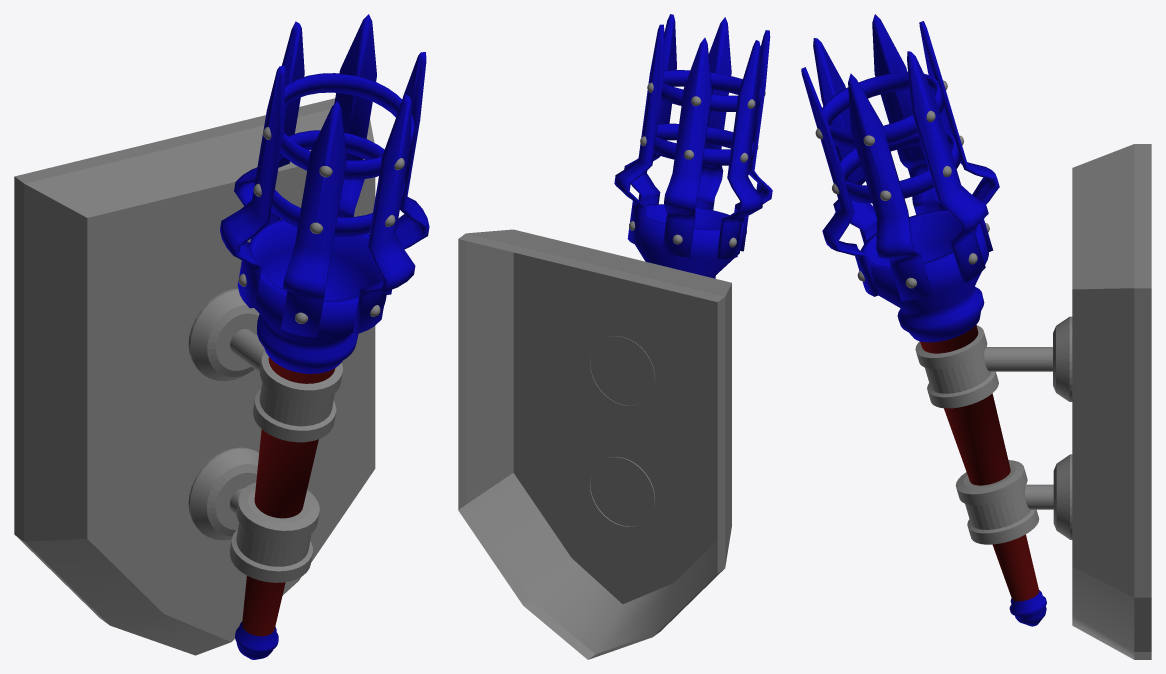
The model's file is torch.fbx.
The picture shows the model from 3 angles, left to right: view 1: azimuth 30°, elevation 25°; view 2: azimuth 150°, elevation 25°; view 3: azimuth 270°, elevation 25°; orthographic projection. The views are drawn at different scales.
Parts seen in each view (by area): view 1: Wall_Mount, torch_handle_instant, Torch_holder001, Torch_holder, Mount_base, Mount_base001, Object; view 2: Wall_Mount, torch_handle_instant; view 3: torch_handle_instant, Wall_Mount, Torch_holder001, Torch_holder, Object, Mount_base, Mount_base001, Object001.
Boxes of the visible parts, bbox=[...] form: Wall_Mount: bbox=[14, 98, 375, 655]; torch_handle_instant: bbox=[220, 14, 429, 659]; Torch_holder001: bbox=[229, 482, 319, 582]; Torch_holder: bbox=[253, 351, 342, 442]; Mount_base: bbox=[188, 288, 259, 381]; Mount_base001: bbox=[188, 447, 259, 540]; Object: bbox=[230, 329, 265, 372]; Wall_Mount: bbox=[458, 229, 731, 659]; torch_handle_instant: bbox=[614, 14, 772, 278]; torch_handle_instant: bbox=[801, 14, 1046, 626]; Wall_Mount: bbox=[1072, 144, 1151, 659]; Torch_holder001: bbox=[955, 460, 1039, 544]; Torch_holder: bbox=[915, 325, 998, 408]; Object: bbox=[984, 347, 1052, 371]; Mount_base: bbox=[1053, 316, 1072, 401]; Mount_base001: bbox=[1053, 454, 1072, 539]; Object001: bbox=[1025, 484, 1053, 509].
Size of the model in its own units: 89.07 by 181 by 91.46.
